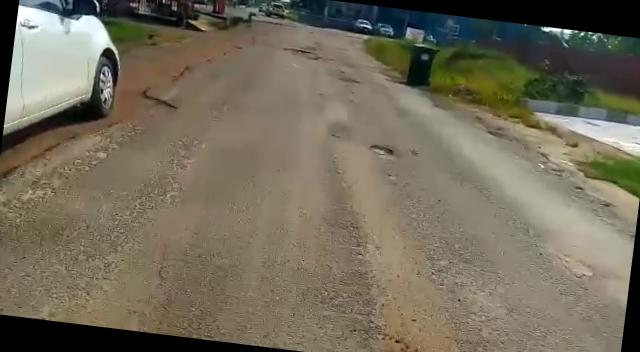pothole: (367, 142, 402, 160)
